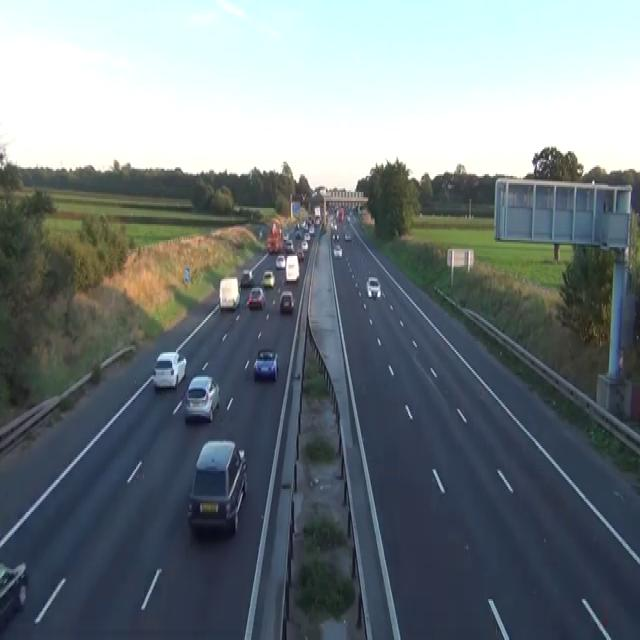Car: (186, 439, 247, 535), (0, 560, 28, 629), (184, 374, 219, 422), (153, 350, 186, 390), (253, 348, 278, 381), (247, 286, 265, 310), (279, 290, 294, 313), (366, 276, 380, 298), (260, 270, 275, 288), (240, 268, 253, 286), (332, 244, 342, 258), (275, 254, 285, 268), (267, 238, 277, 252), (284, 238, 293, 252), (296, 247, 304, 261), (301, 240, 308, 251), (330, 220, 337, 230), (314, 215, 320, 226), (344, 231, 351, 240), (282, 233, 289, 242), (303, 231, 310, 240), (309, 226, 315, 236), (294, 230, 301, 238), (321, 222, 326, 233), (333, 231, 339, 240), (259, 228, 263, 238), (346, 215, 350, 222)
Truck: (219, 276, 240, 310), (266, 220, 282, 252), (285, 252, 299, 281)
